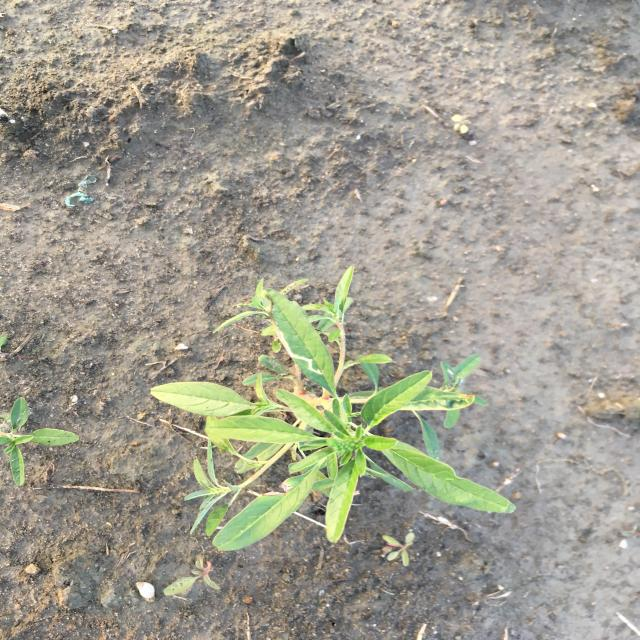Waterhemp: (147, 266, 518, 554), (2, 396, 84, 490)
